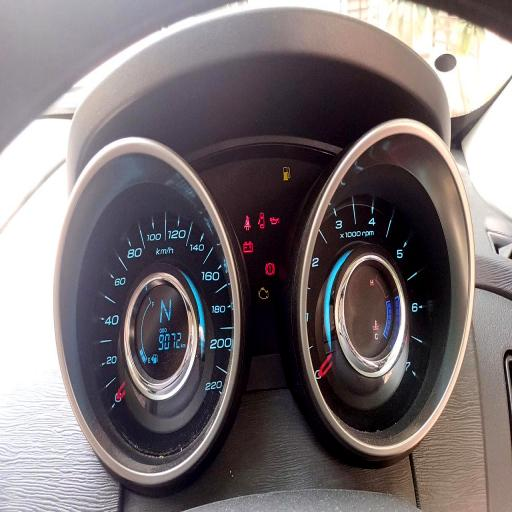belt: (244, 214, 251, 230)
brake_system_fault: (265, 262, 275, 276)
check_engine: (258, 286, 268, 300)
oil: (270, 216, 280, 225)
tachometer: (304, 193, 435, 435)
vehicle_charging: (243, 240, 253, 254)
